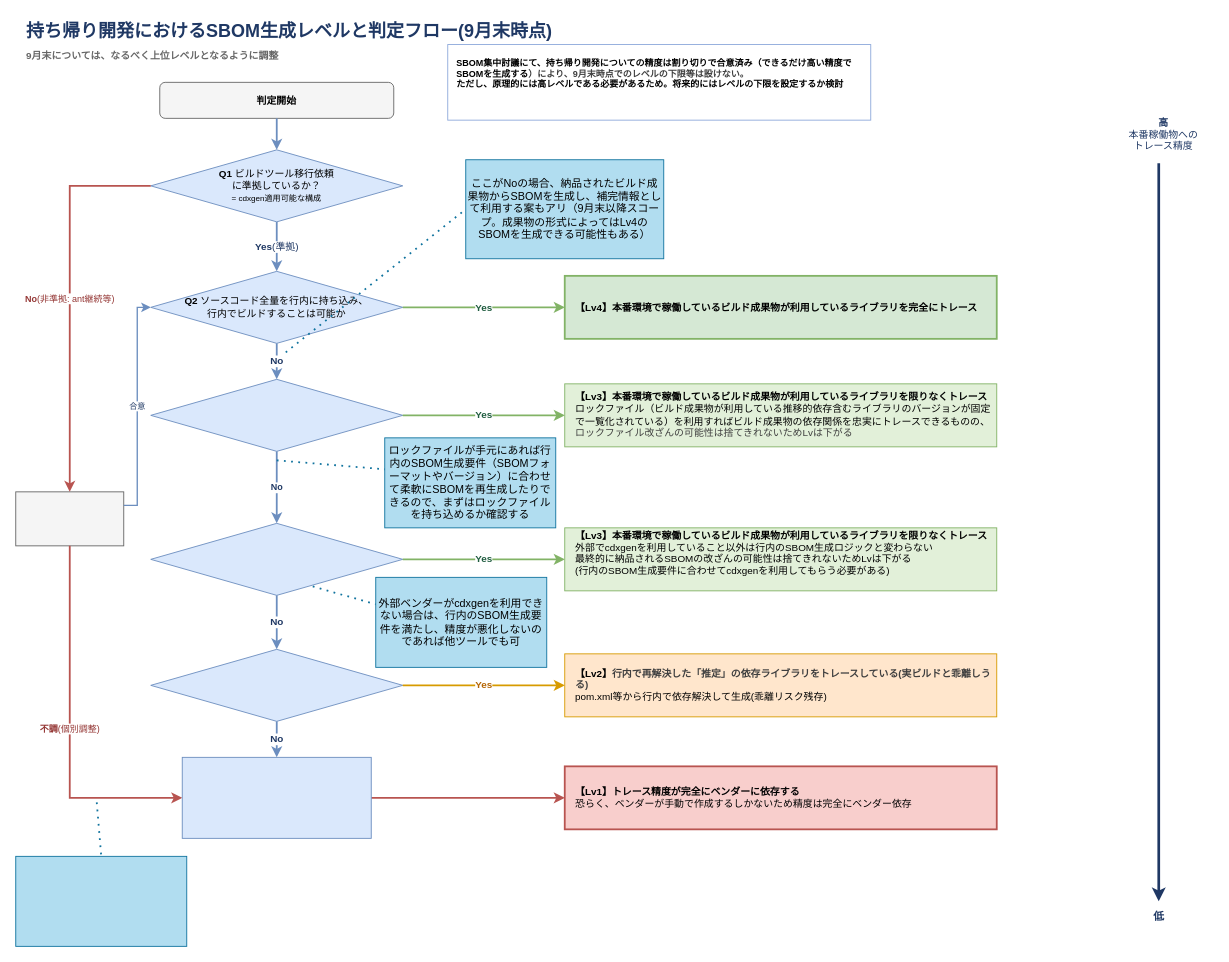
Image size: 1229x962. Some labels were removed from this diagram. Each missing label, with the centre of its shape:
"Q3 ロックファイルを 行内に持ち込めるか？" belongs at point 276,414.
"Q4 ベンダーが外部ビルド環境にてcdxgenで SBOMを生成・納品できるか？" belongs at point 276,558.
"Q5 依存関係定義ファイル(pom.xml等) 等を行内に持ち込んでcdxgenでSBOM生成できるか？" belongs at point 276,684.
"ビルドツール移行が強制である場合はこの矢印を削除" belongs at point 101,900.
"外部ベンダー独自にSBOMを生成し、納品するよう依頼する" belongs at point 276,797.
"移行可否確認" belongs at point 69,518.
